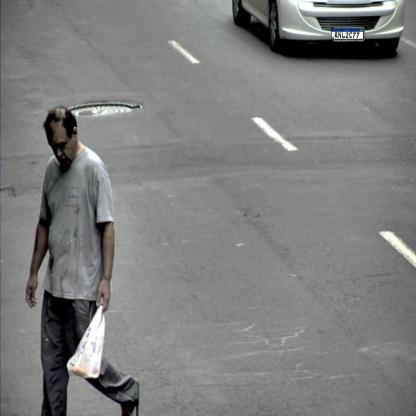PlacaM: (332, 29, 364, 40)
